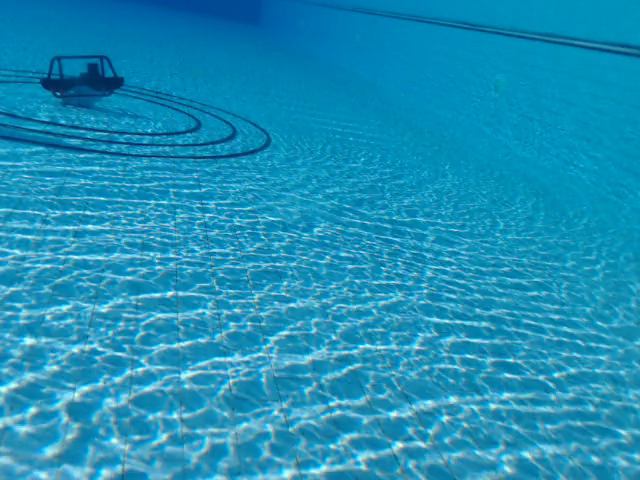submarine: (40, 53, 127, 109)
